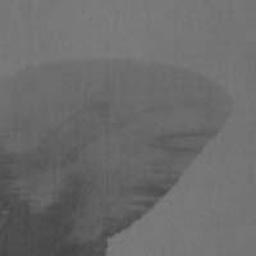Oil spot: (0, 54, 238, 256)
